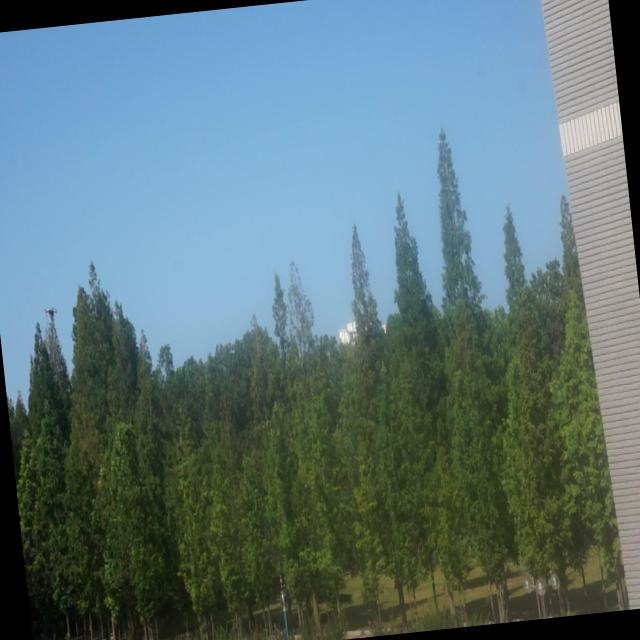drone: (43, 305, 58, 318)
